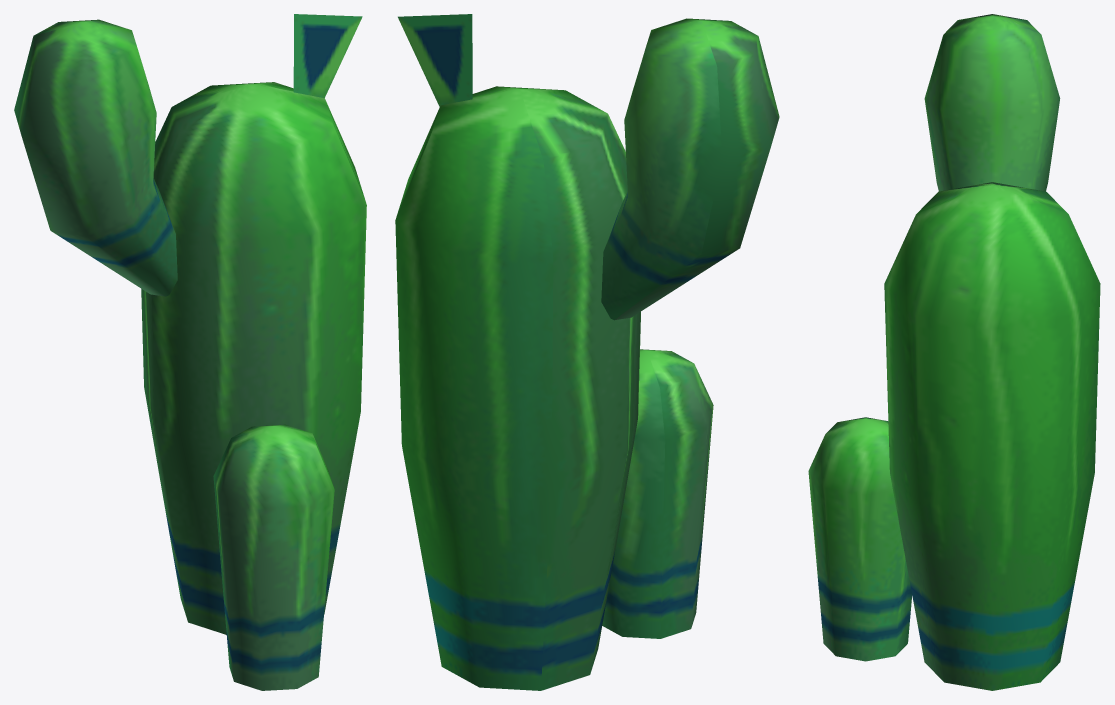
The model's file is sm_xianrenzhang3.fbx.
3 views of the same model, side by side, from view 1: azimuth 30°, elevation 25°; view 2: azimuth 150°, elevation 25°; view 3: azimuth 270°, elevation 25° (orthographic). The views are drawn at different scales.
Visible parts, largest first — view 1: sm_xianrenzhang3; view 2: sm_xianrenzhang3; view 3: sm_xianrenzhang3.
Boxes of the visible parts, x1,y1,x2,y2 form: sm_xianrenzhang3: (14, 14, 366, 690); sm_xianrenzhang3: (395, 14, 779, 690); sm_xianrenzhang3: (808, 14, 1100, 690).
Size of the model in its own units: 393 by 689 by 318.
